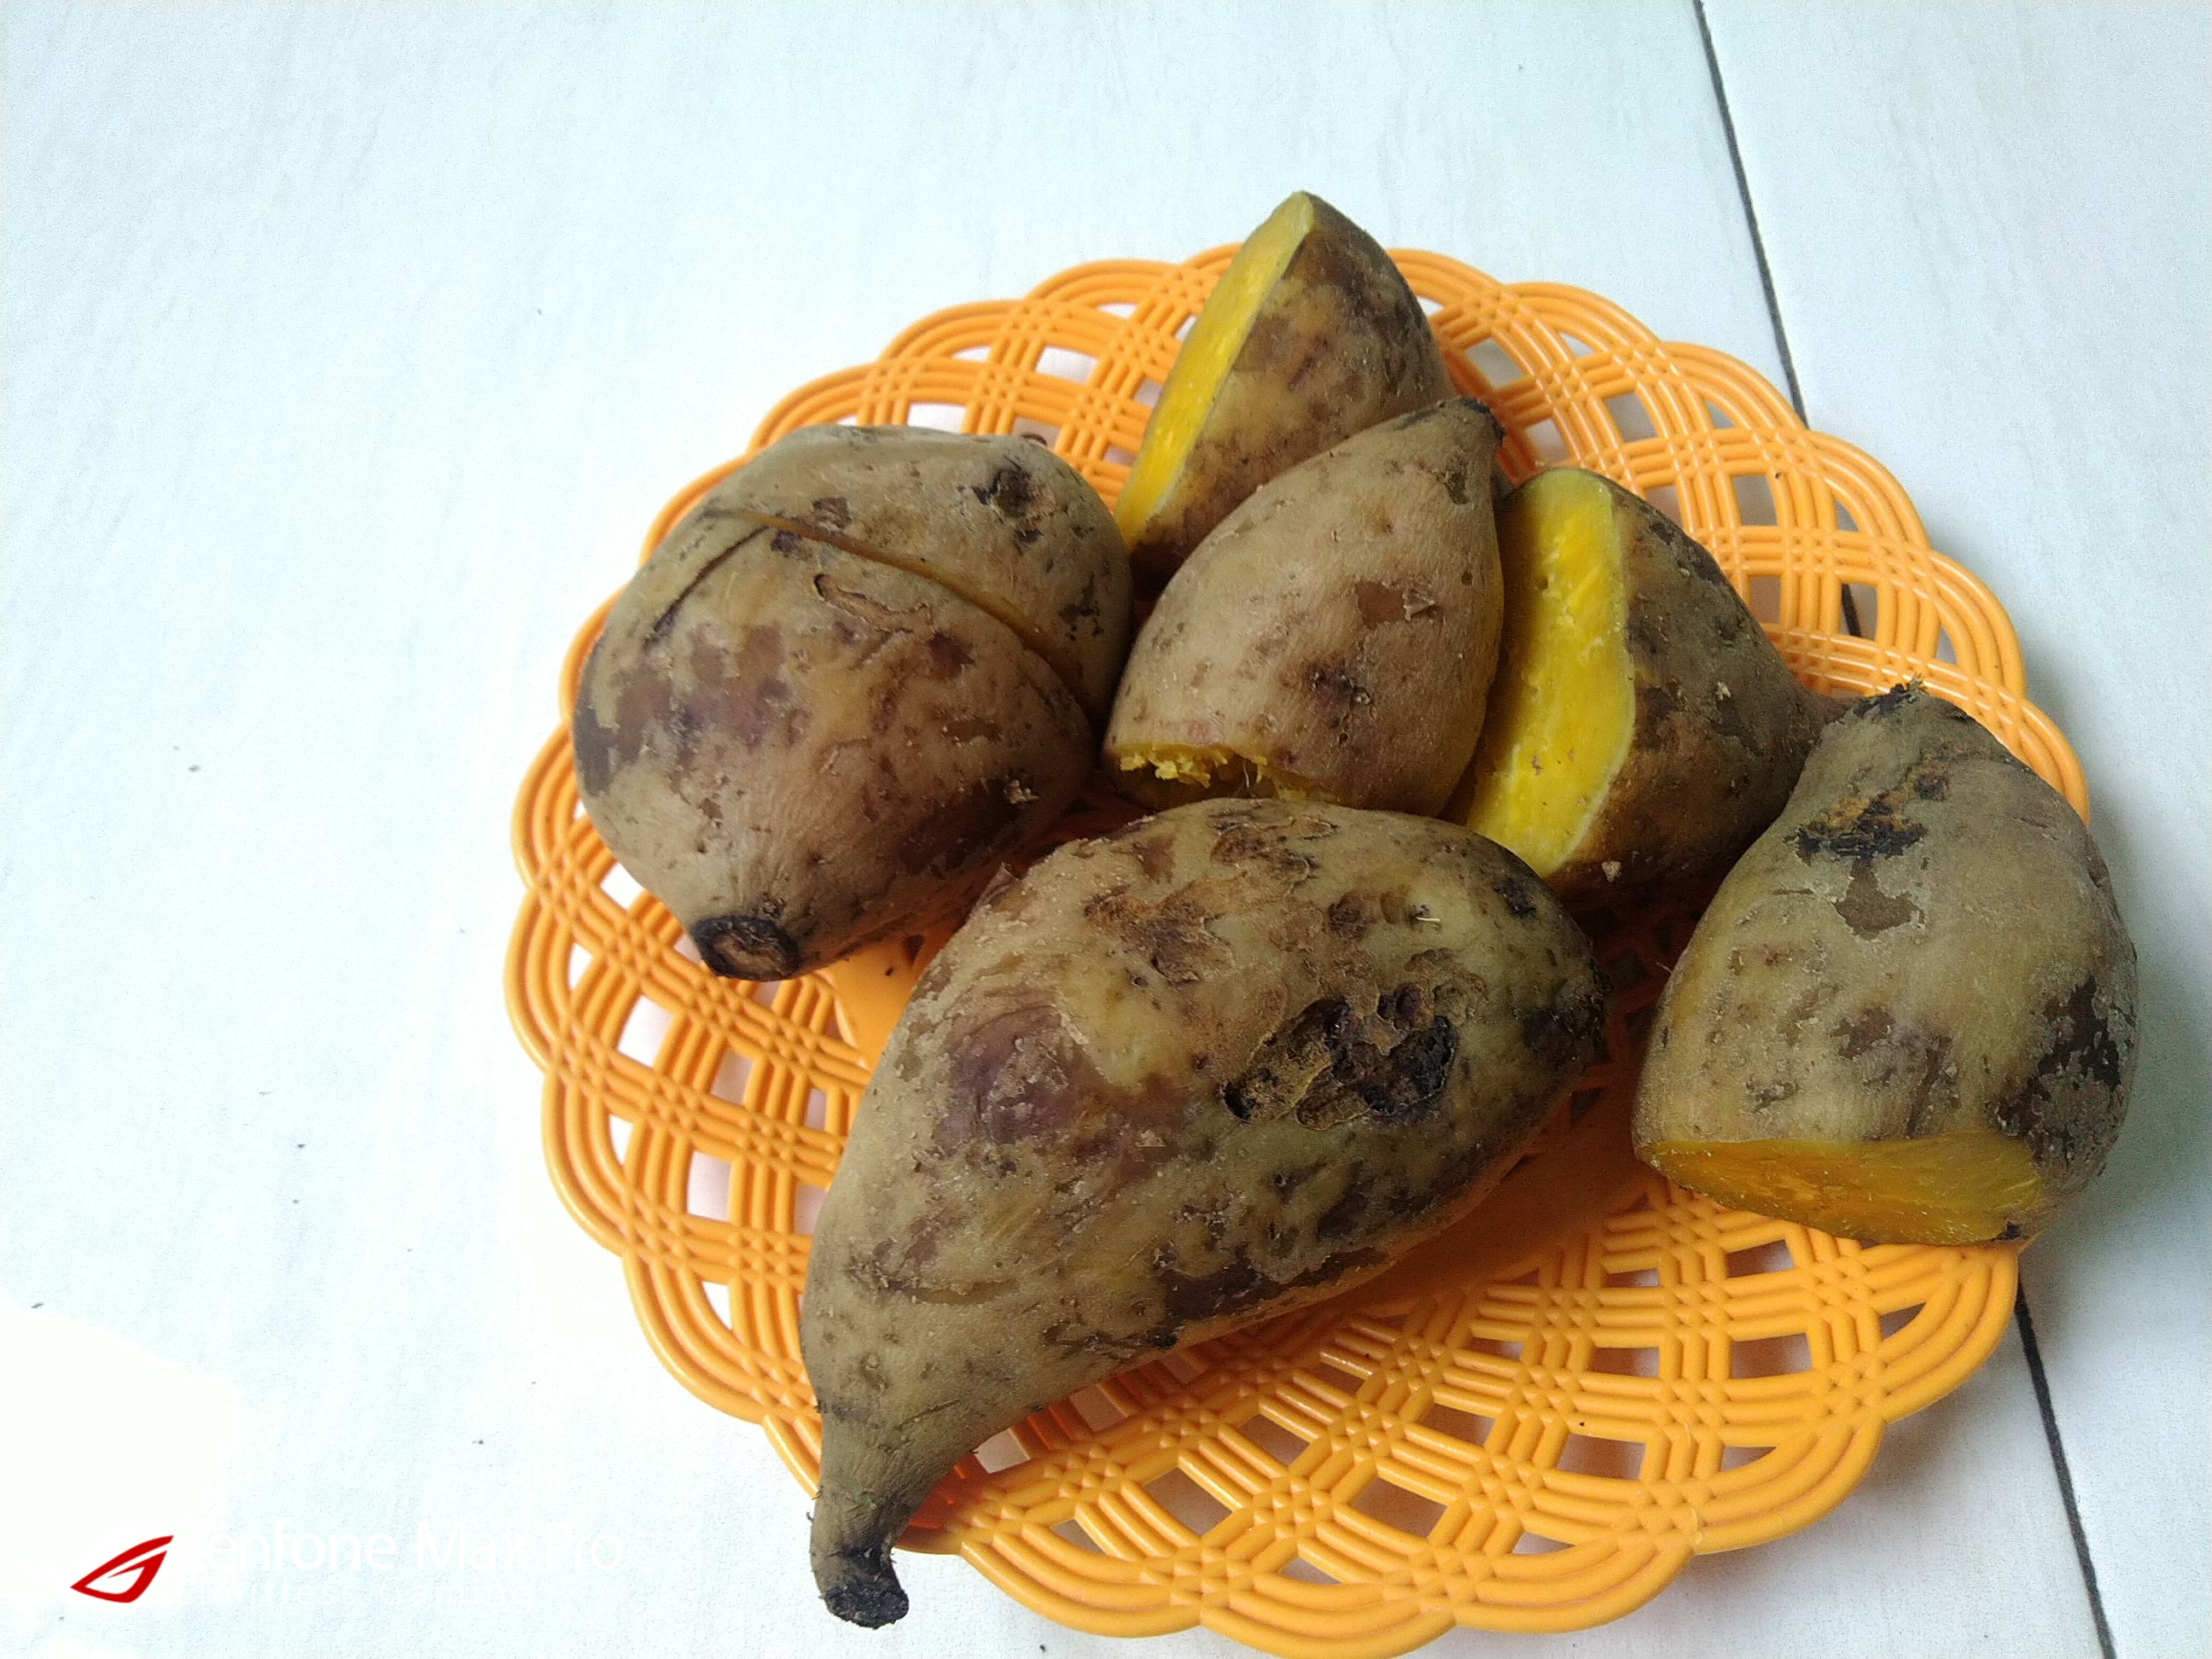ubi kuning: (777, 786, 1625, 1636), (1622, 662, 2175, 1218), (564, 410, 1108, 960), (1094, 385, 1564, 814), (1474, 460, 1811, 908), (1106, 181, 1449, 572)
